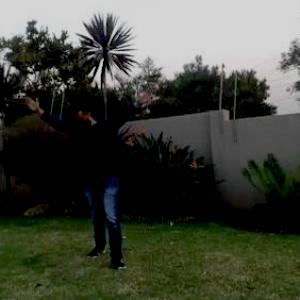takeoff: (26, 83, 157, 272)
